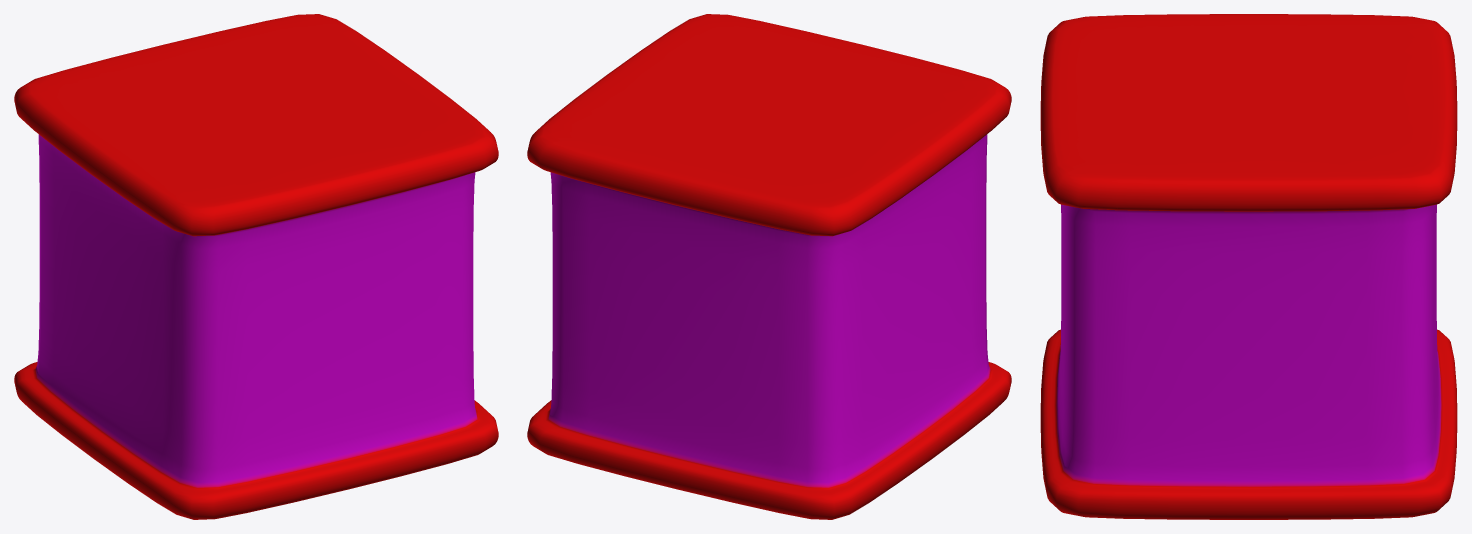
The model's file is nomal_block.fbx.
3 renders of one model, left to right at view 1: azimuth 30°, elevation 25°; view 2: azimuth 150°, elevation 25°; view 3: azimuth 270°, elevation 25°, orthographic. The views are drawn at different scales.
Visible parts, largest first — view 1: nomal_block; view 2: nomal_block; view 3: nomal_block.
Boxes of the visible parts, x1=… form: nomal_block: x1=14, y1=14, x2=498, y2=519; nomal_block: x1=527, y1=14, x2=1011, y2=519; nomal_block: x1=1040, y1=14, x2=1457, y2=519.
Bounding box in the file's own units: 1.11 × 1 × 1.11.
